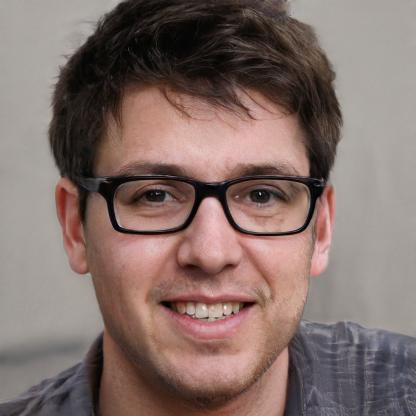glasses: (90, 167, 324, 240)
